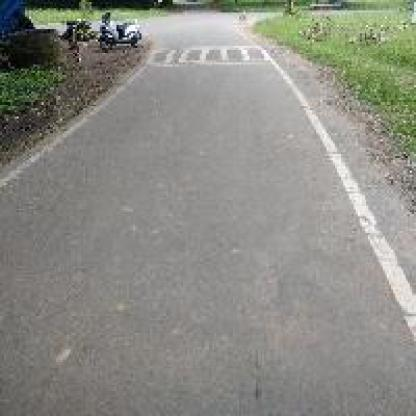Speed Bump: (141, 40, 279, 66)
